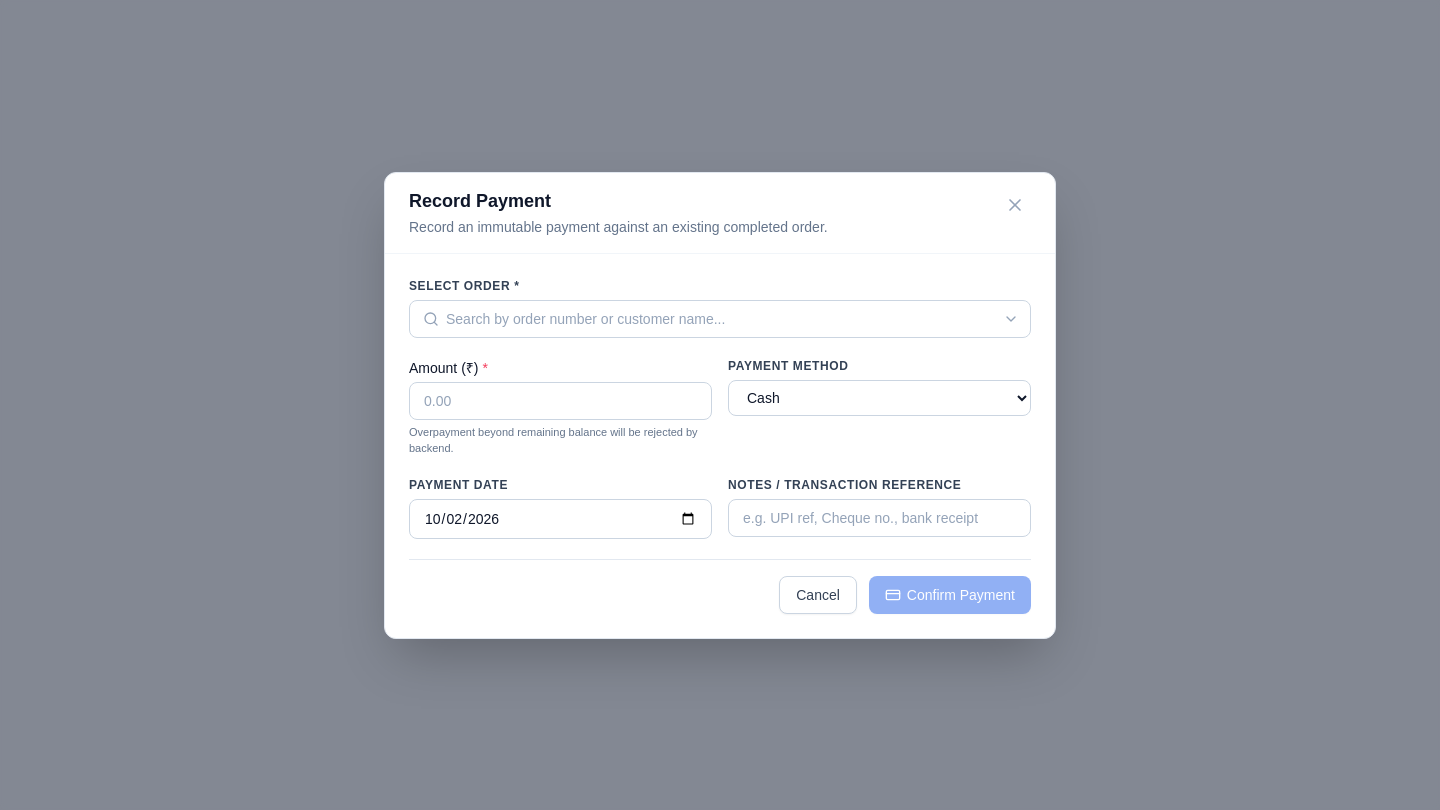
Test case: PaymentFormModal - Searchable Order Select UX › allows clearing and changing the selected order
Note: Select order 1
Type "ord-1" into the dropdown labelled "Select Order *" at [720, 318], box 409,300 -> 1031,338
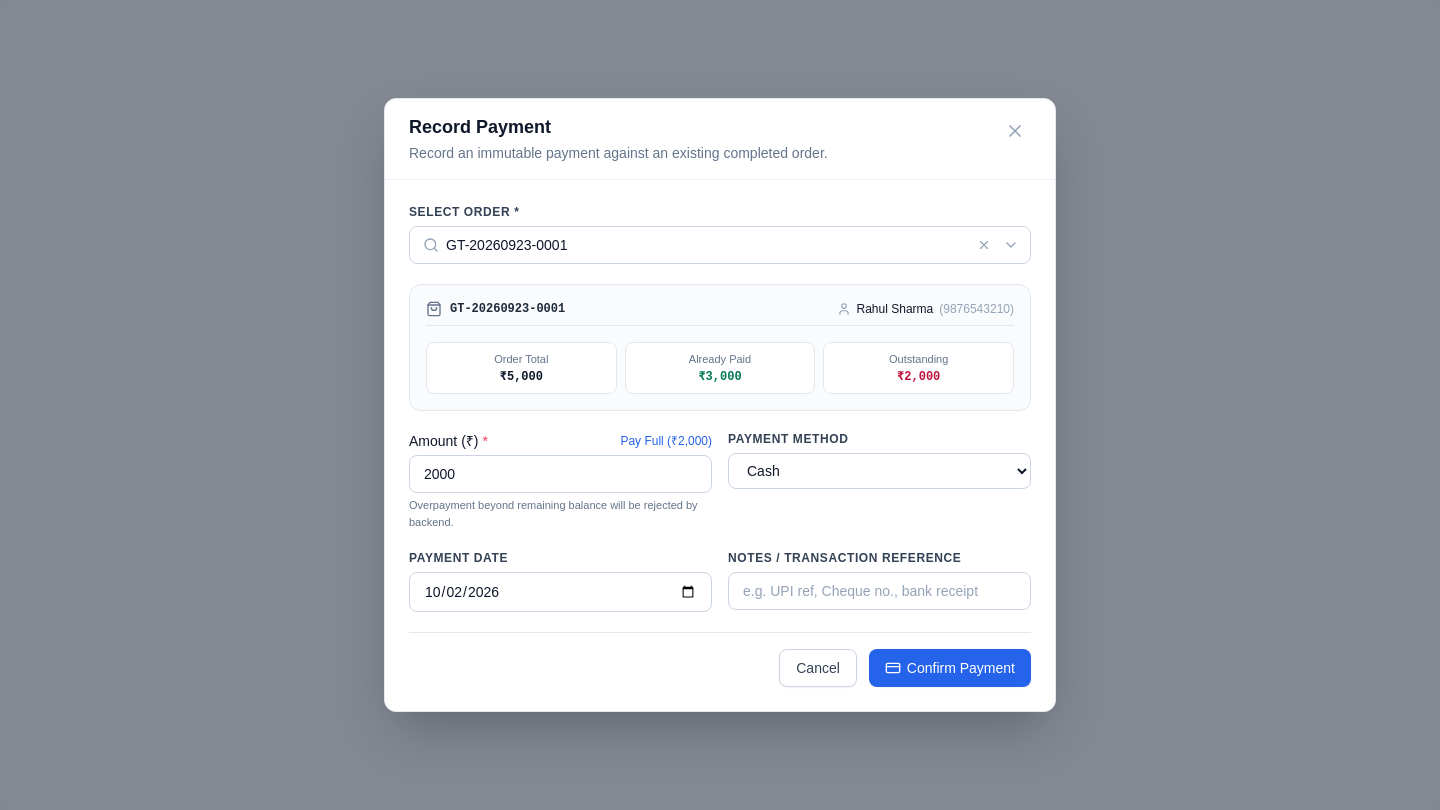
expect the dropdown labelled "Select Order *" holds "GT-20260923-0001": met, box 409,226 -> 1031,264
Note: Clear selection
Click the button named "Clear selection" at [984, 245], box 973,234 -> 995,256
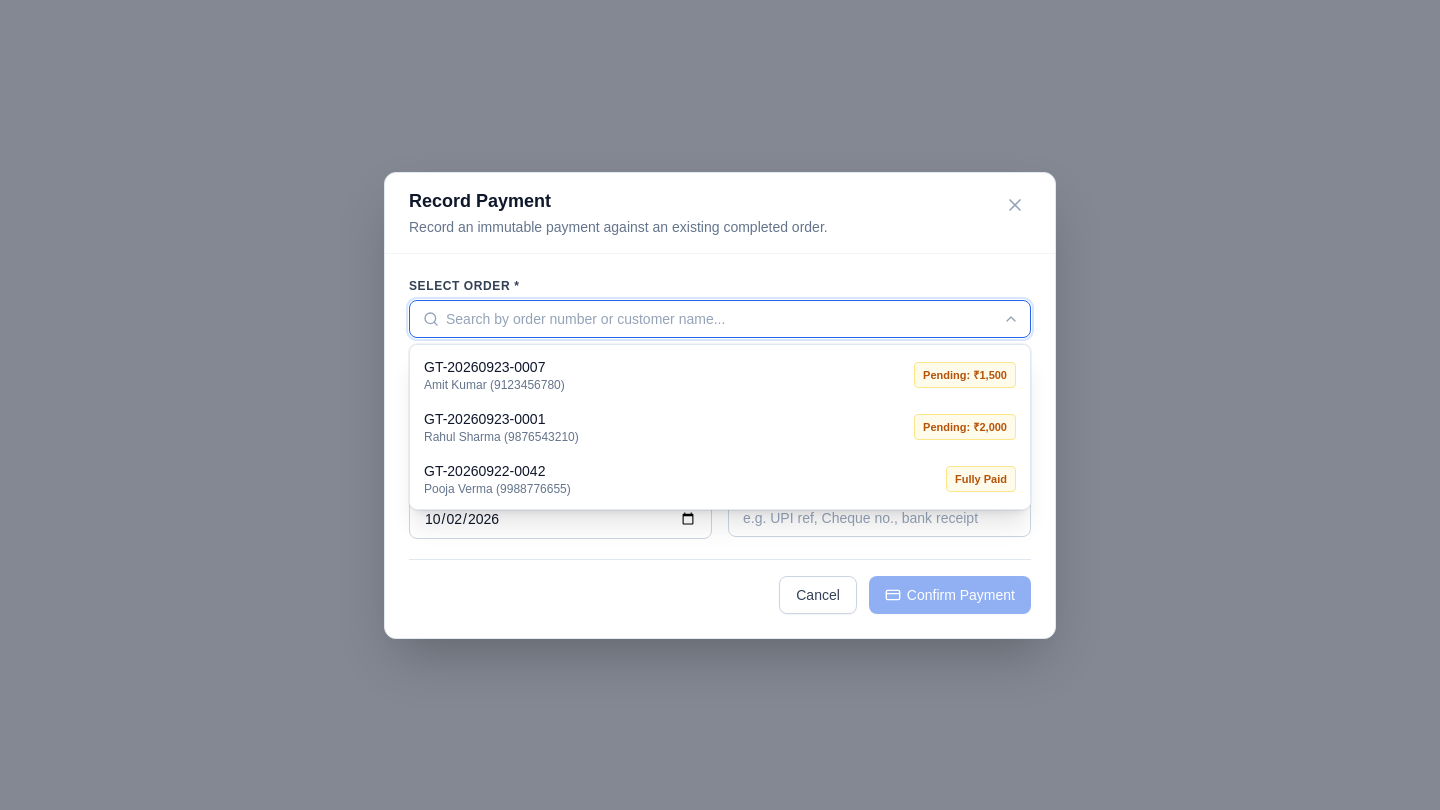
expect the dropdown labelled "Select Order *" is empty: met
Note: Now select order 2
Type "0007" into the dropdown labelled "Select Order *" at [720, 318], box 409,300 -> 1031,338
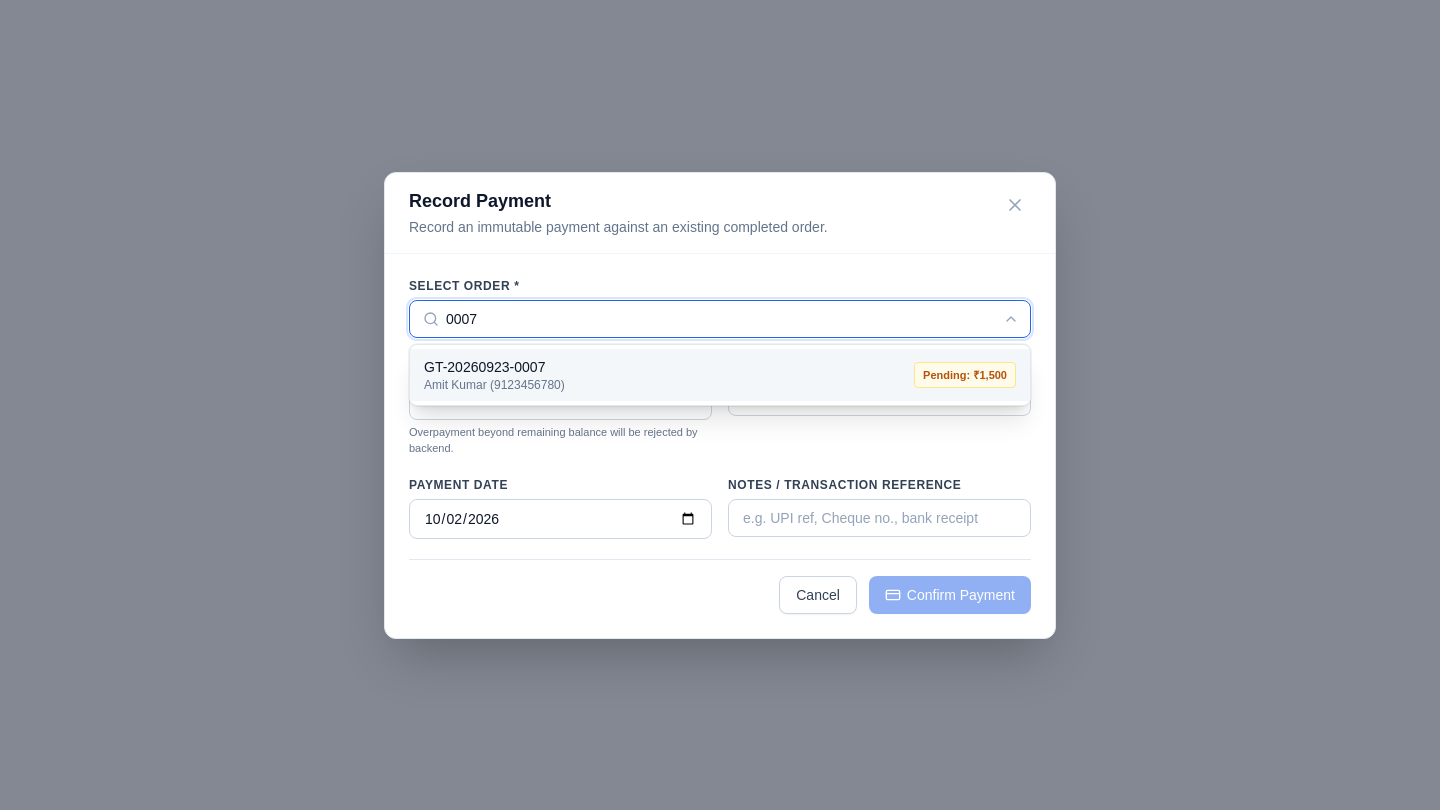
Click the text "GT-20260923-0007" at [494, 366], box 424,356 -> 565,376
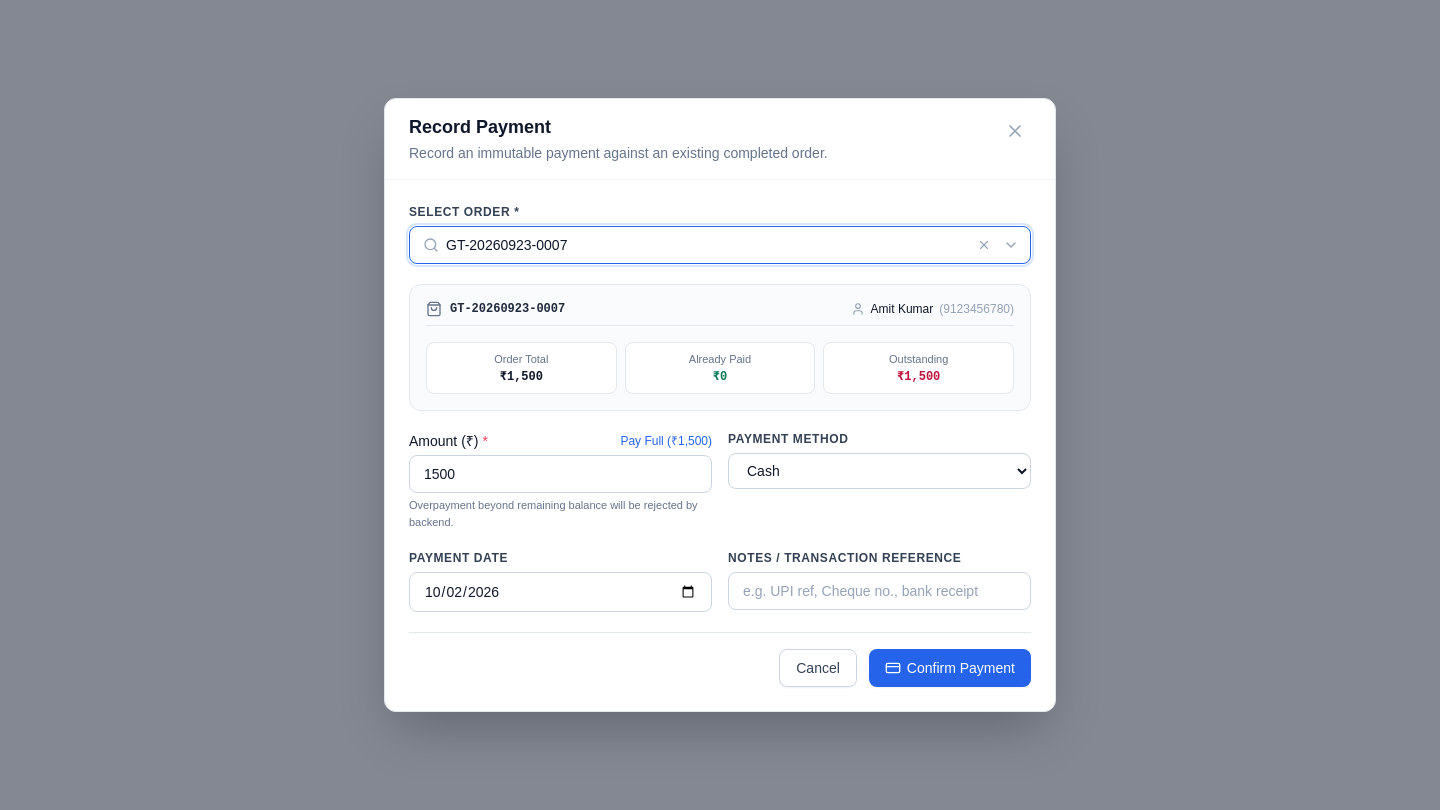
expect the dropdown labelled "Select Order *" holds "GT-20260923-0007": met, box 409,226 -> 1031,264
